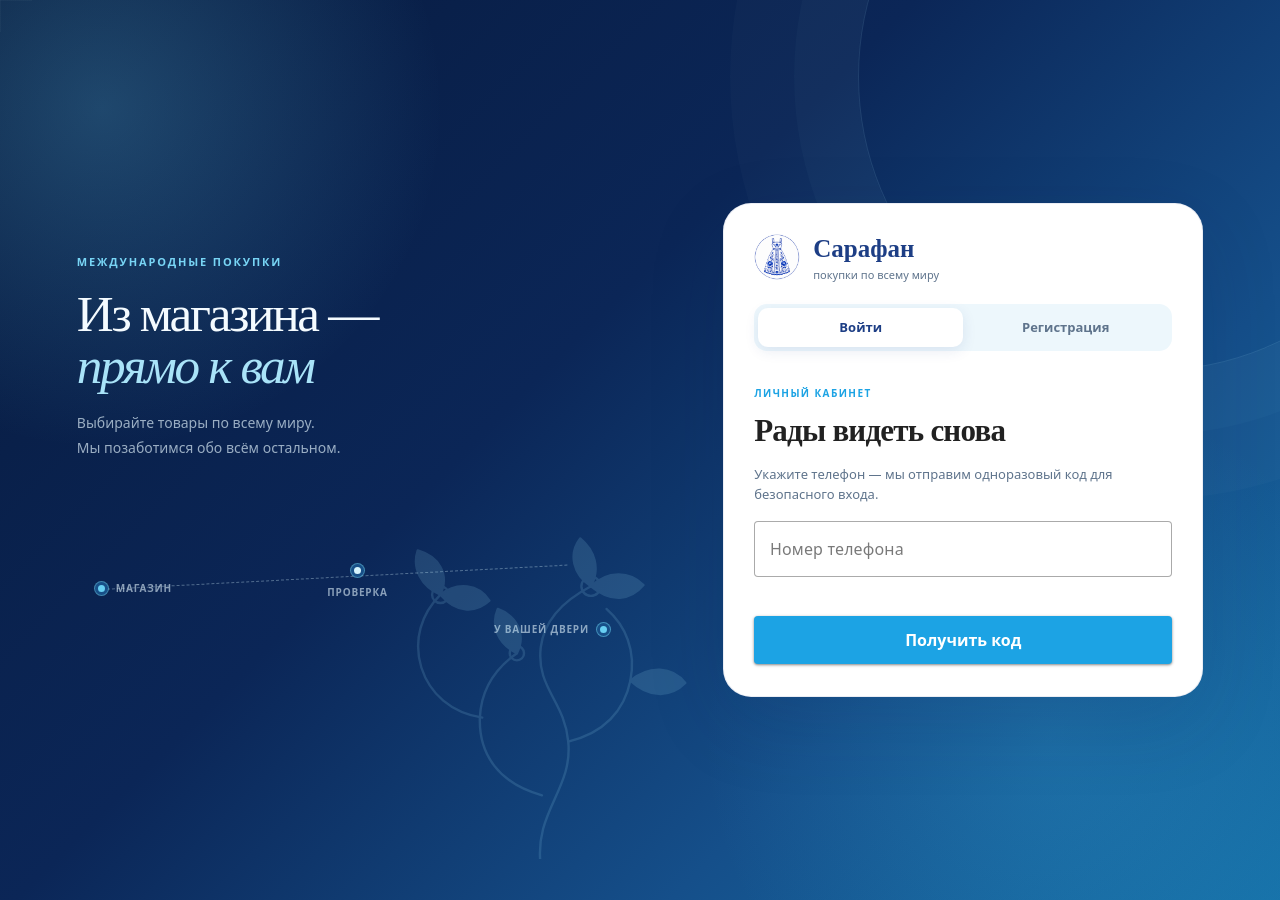
Scenario: AuthView › explains a missing login account and handles an unavailable service
In the field named "phone": {"x": 963, "y": 549} [754,521,1172,577], type "+7 999 000-00-00"
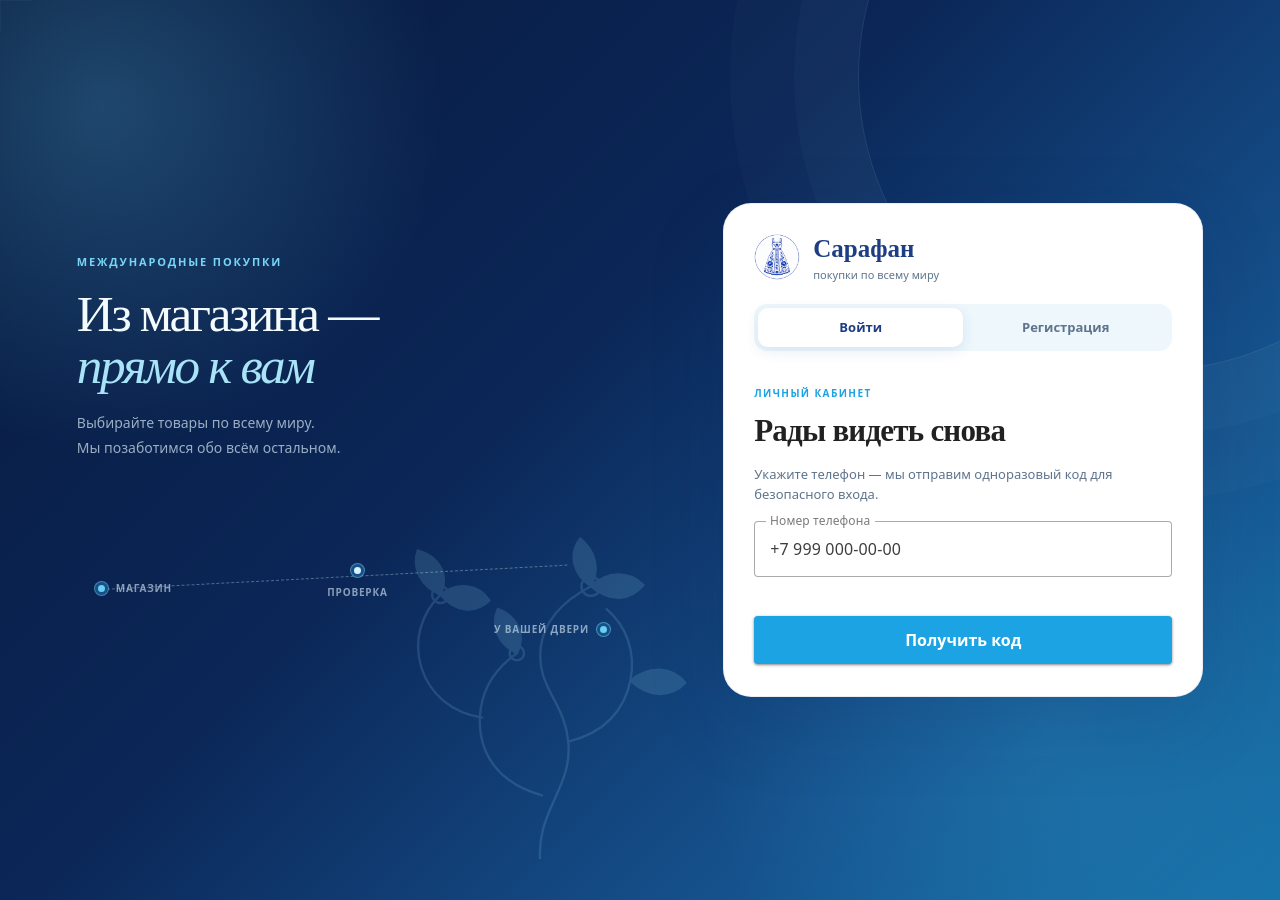
Submit the form with class "auth-form", box [724,351,1202,696]
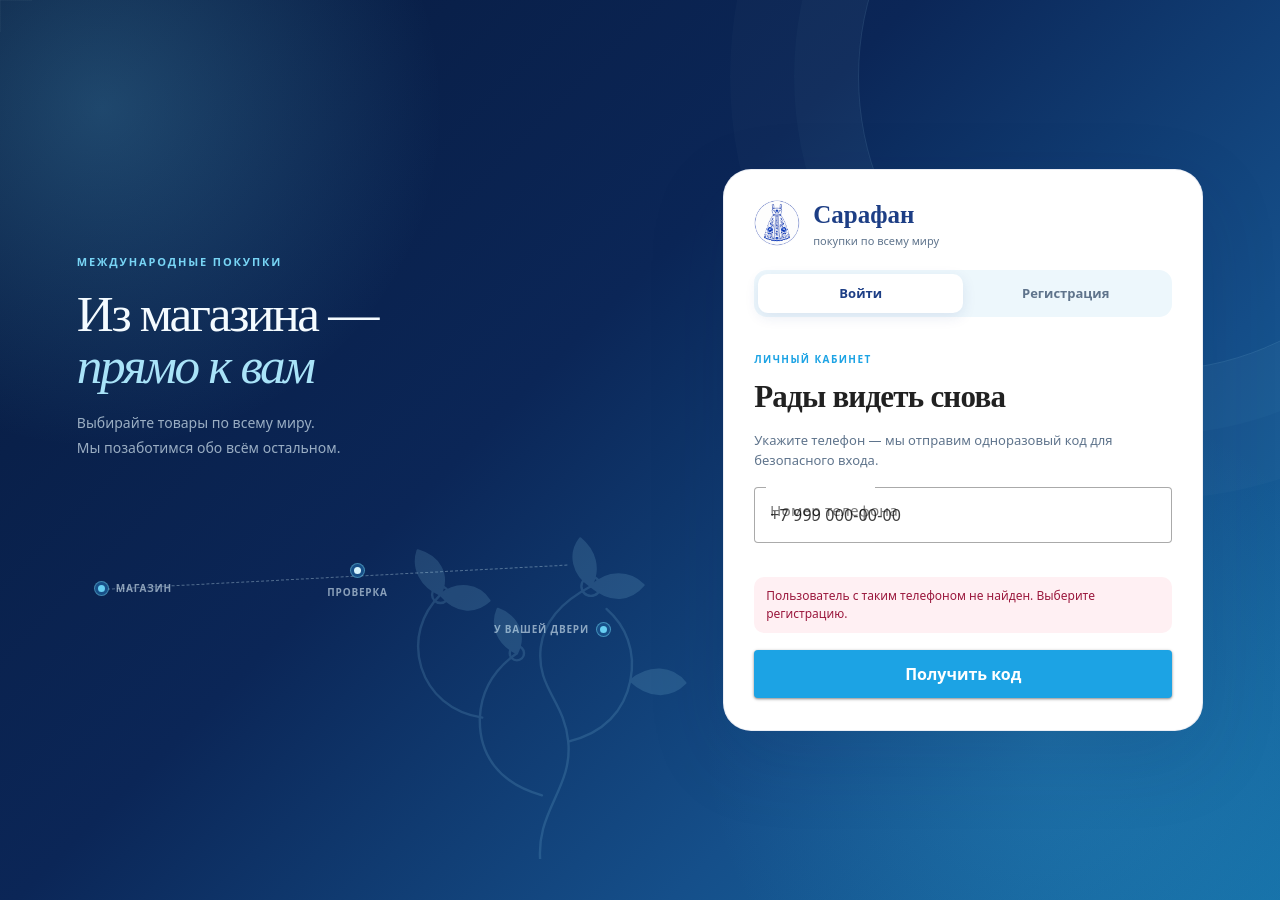
Result: the message with class "form-error" shows "Пользователь с таким телефоном не найден" at [766,587,1095,622]
Submit the form with class "auth-form", box [724,317,1202,730]
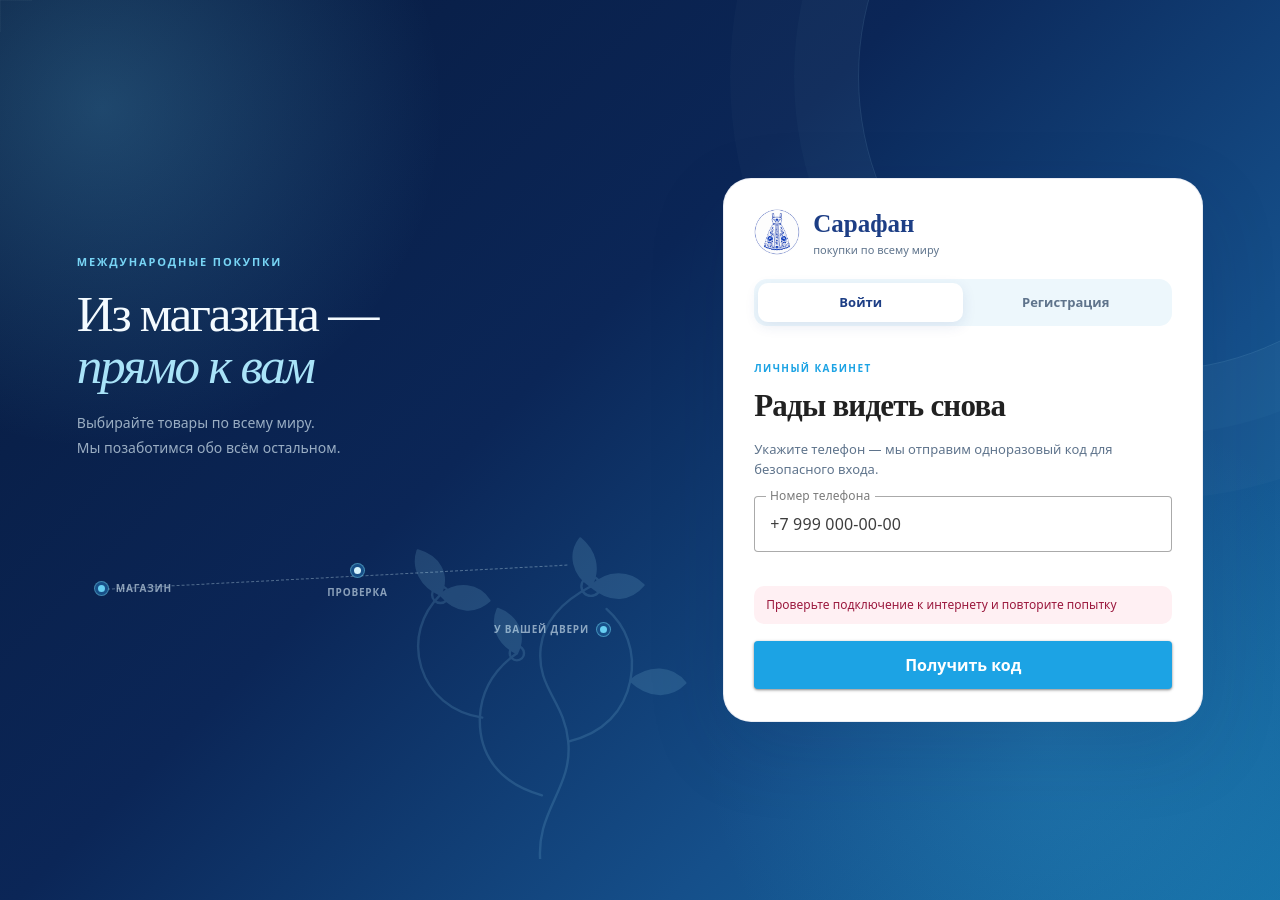
Result: the message with class "form-error" reads "Проверьте подключение к интернету и повторите попытку" at [766,596,1117,613]
